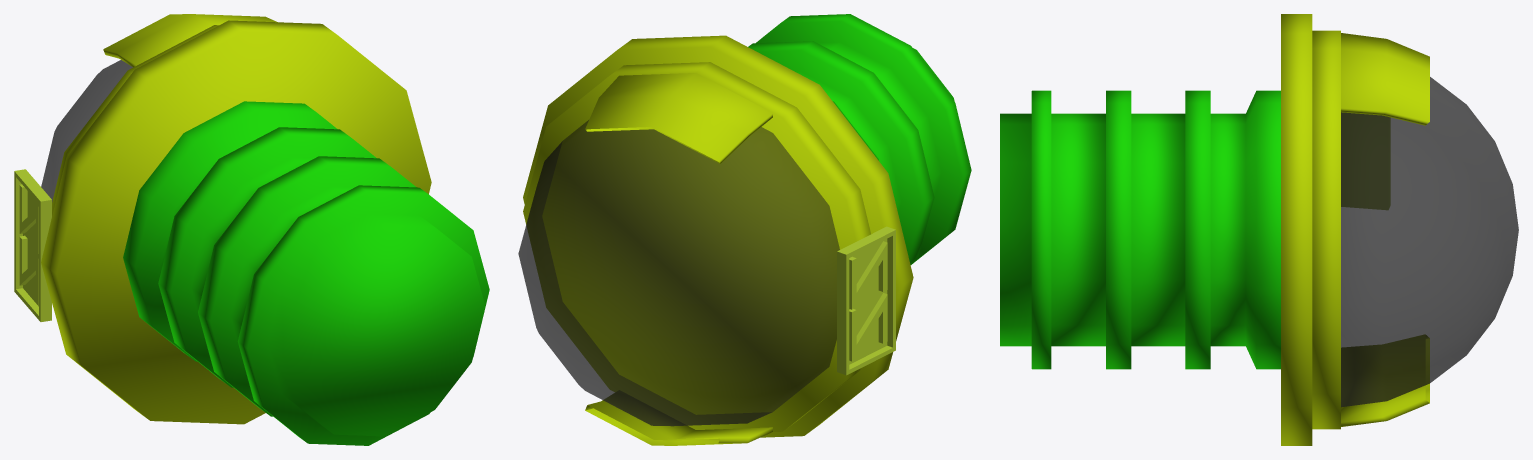
Rendered from TowerBig.fbx.
The picture shows the model from 3 angles, left to right: view 1: azimuth 30°, elevation 25°; view 2: azimuth 150°, elevation 25°; view 3: azimuth 270°, elevation 25°; orthographic projection.
Parts seen in each view (by area): view 1: Tower; view 2: Tower; view 3: Tower.
Part boxes in pixels (x1,y1,x2,y2): Tower: (14, 14, 489, 445); Tower: (518, 14, 971, 445); Tower: (1000, 14, 1518, 445).
Size of the model in its own units: 3717 by 3717 by 4448.
